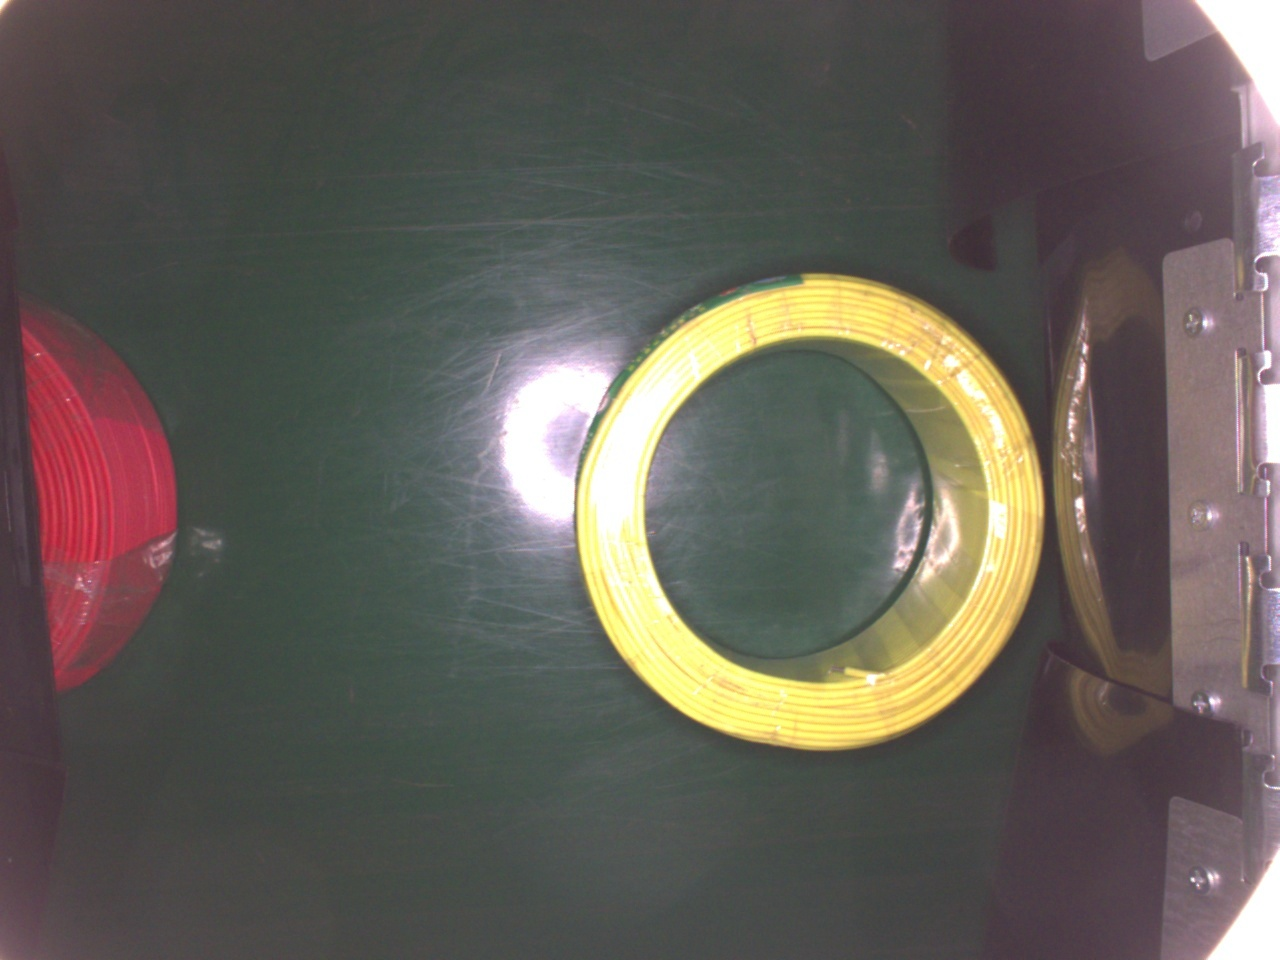red: (0, 298, 179, 698)
yellow: (571, 265, 1047, 753)
